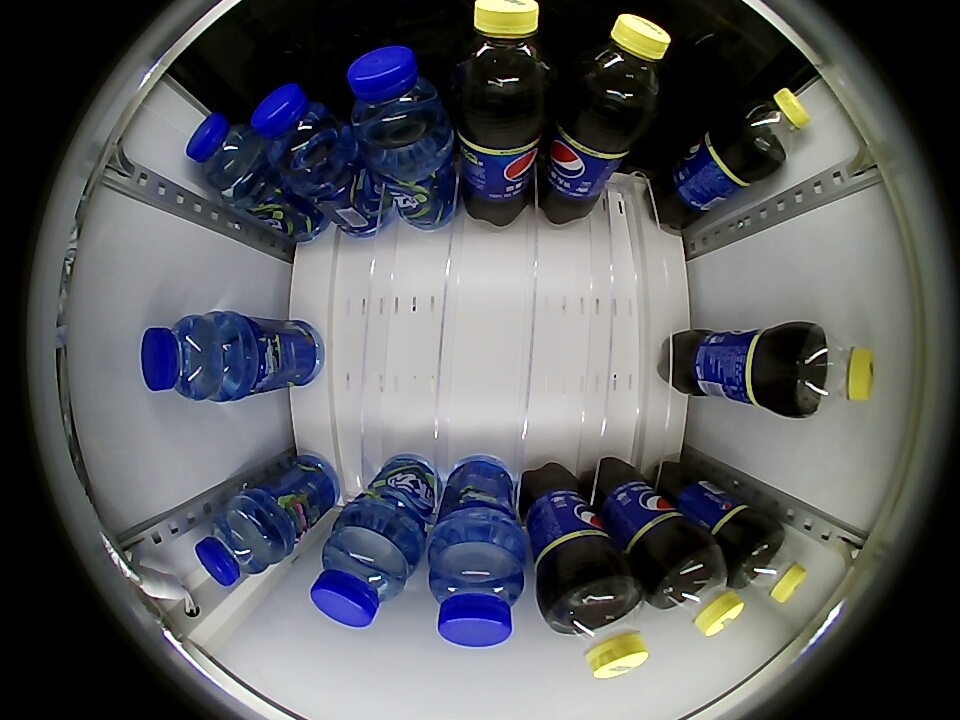baishikele: (451, 0, 556, 105), (547, 574, 649, 680), (572, 13, 671, 119), (651, 543, 746, 637), (791, 324, 875, 416), (734, 87, 810, 165), (733, 527, 807, 603)
maidong: (345, 43, 447, 158), (428, 537, 526, 649), (310, 522, 413, 628), (250, 83, 345, 182), (141, 313, 238, 402), (194, 500, 281, 587), (185, 112, 267, 197)
